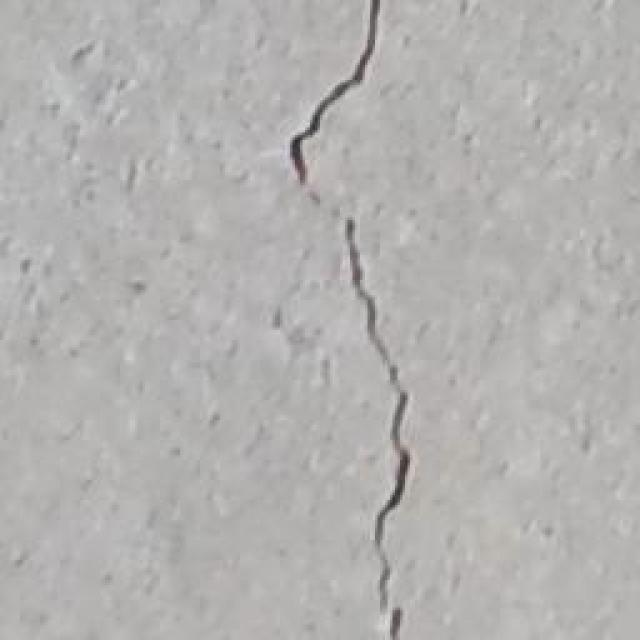concrete-crack: (348, 220, 415, 640), (290, 0, 382, 208)
